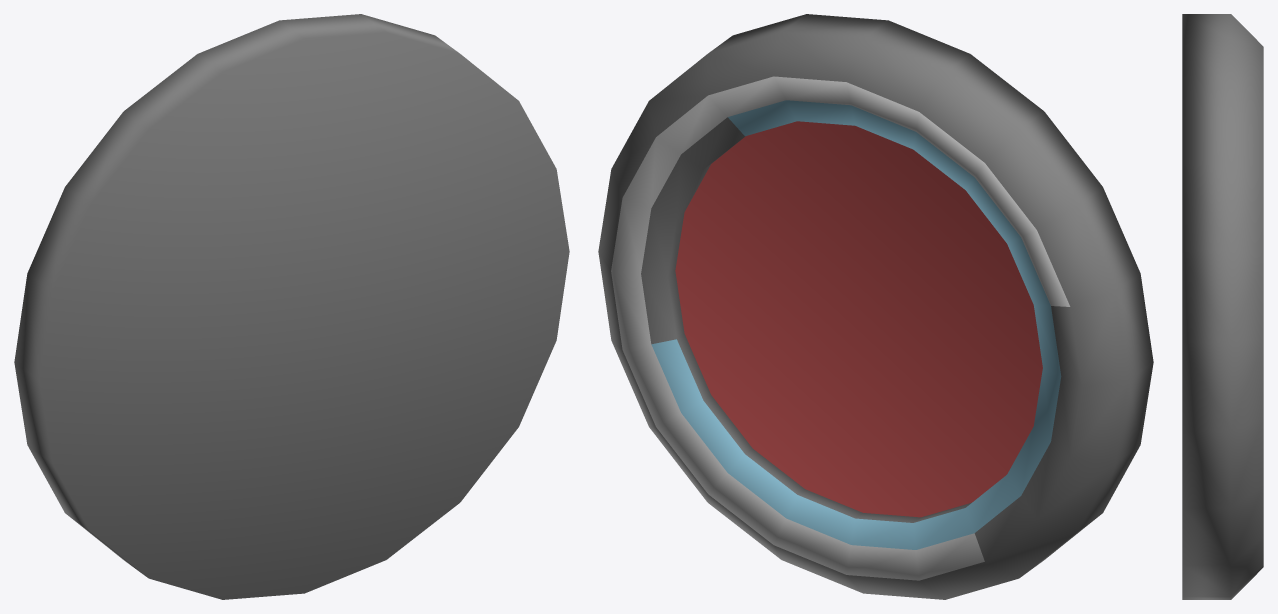
Rendered from Disc.FBX.
3 renders of one model, left to right at view 1: azimuth 30°, elevation 25°; view 2: azimuth 150°, elevation 25°; view 3: azimuth 270°, elevation 25°, orthographic. The views are drawn at different scales.
Parts seen in each view (by area): view 1: pCylinder2; view 2: pCylinder2; view 3: pCylinder2.
Part boxes in pixels (x1,y1,x2,y2): pCylinder2: [14, 14, 569, 599]; pCylinder2: [598, 14, 1153, 599]; pCylinder2: [1182, 14, 1263, 599].
Size of the model in its own units: 43.14 by 43.14 by 5.94.
